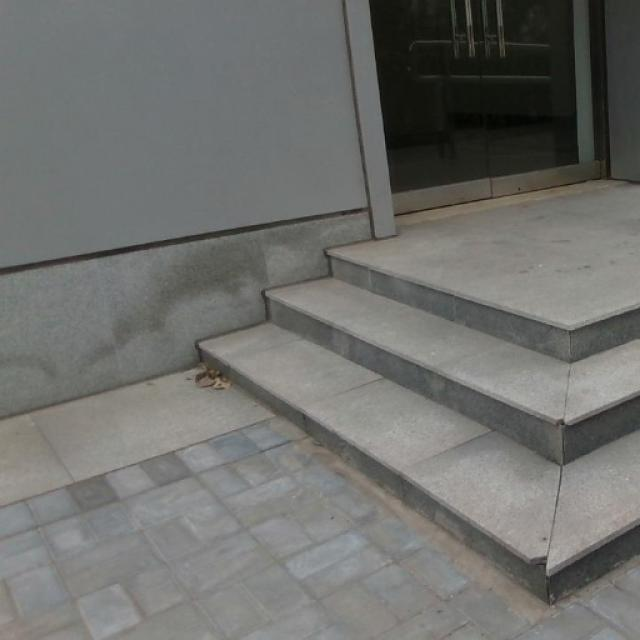Stairs: (192, 180, 638, 605)
